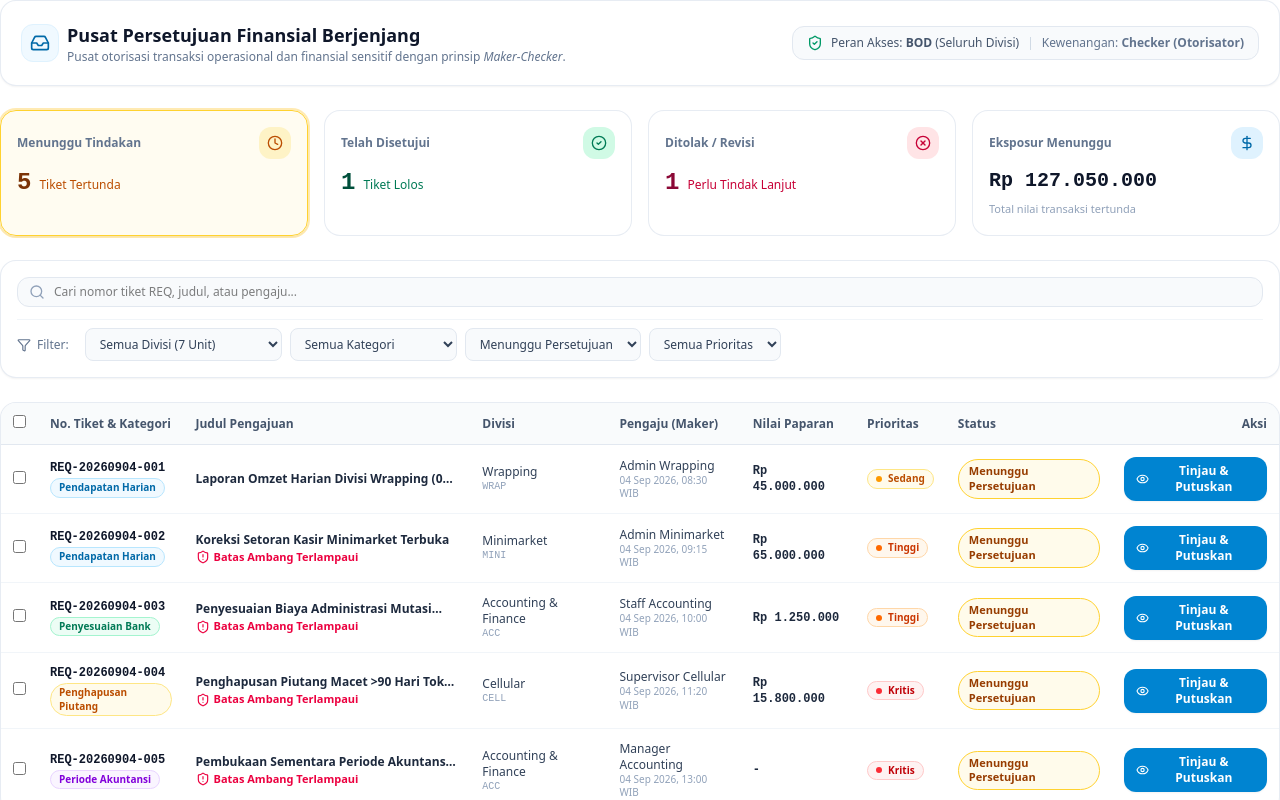
Test: Fase 8: Pusat Persetujuan Finansial Berjenjang (ISSUE-26) › ApprovalInboxCentral Component › filters requests by division
This screenshot has width=1280, height=800.
Select "Wrapping (WRAP)" in the dropdown with test id "filter-division-select": (183, 344) [85, 328, 282, 361]
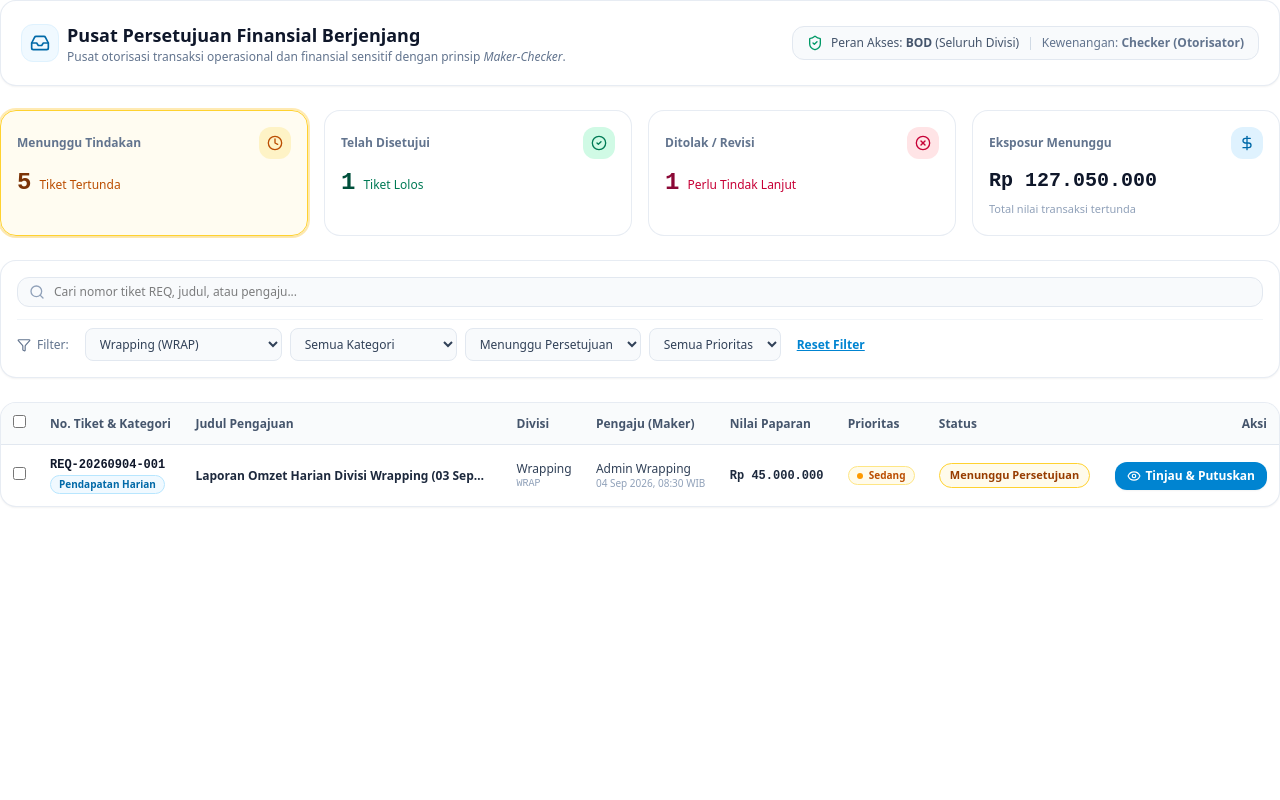
Expected: the text "REQ-20260904-001" is shown, [50, 457, 172, 473]
Expected: the text "REQ-20260904-002" is gone
